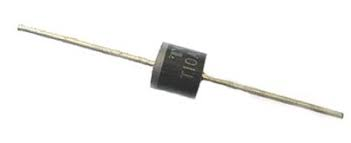diode: (126, 27, 236, 113)
